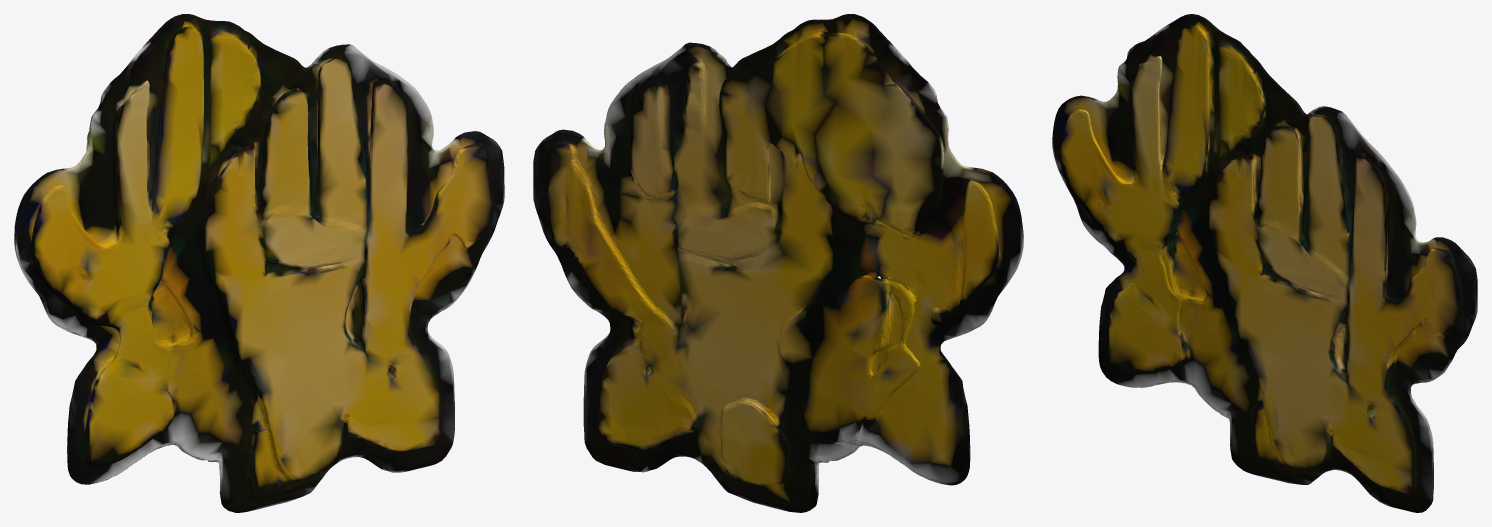
The model's file is gloves.glb.
3 views of the same model, side by side, from view 1: azimuth 30°, elevation 25°; view 2: azimuth 150°, elevation 25°; view 3: azimuth 330°, elevation 25° (orthographic). The views are drawn at different scales.
Parts seen in each view (by area): view 1: geometry_0; view 2: geometry_0; view 3: geometry_0.
Part boxes in pixels (bbox=[...]): geometry_0: bbox=[14, 14, 504, 512]; geometry_0: bbox=[533, 14, 1023, 512]; geometry_0: bbox=[1052, 14, 1477, 512].
Bounding box in the file's own units: 0.5938 × 0.5949 × 0.0255.
